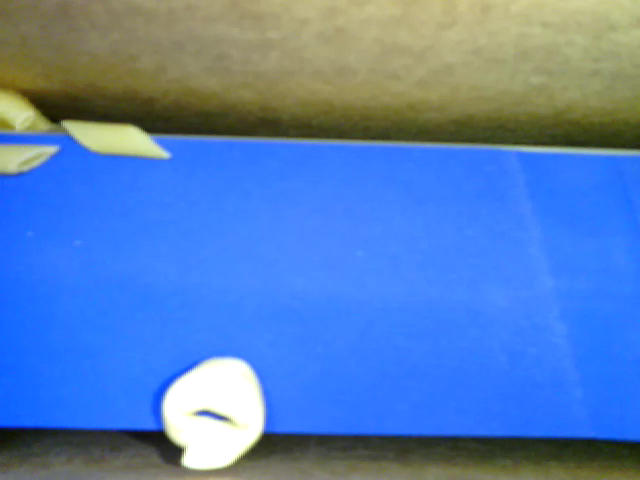penne: (56, 115, 172, 166), (3, 145, 64, 177)
shell: (3, 85, 55, 134)
tortellini: (148, 349, 266, 473)
